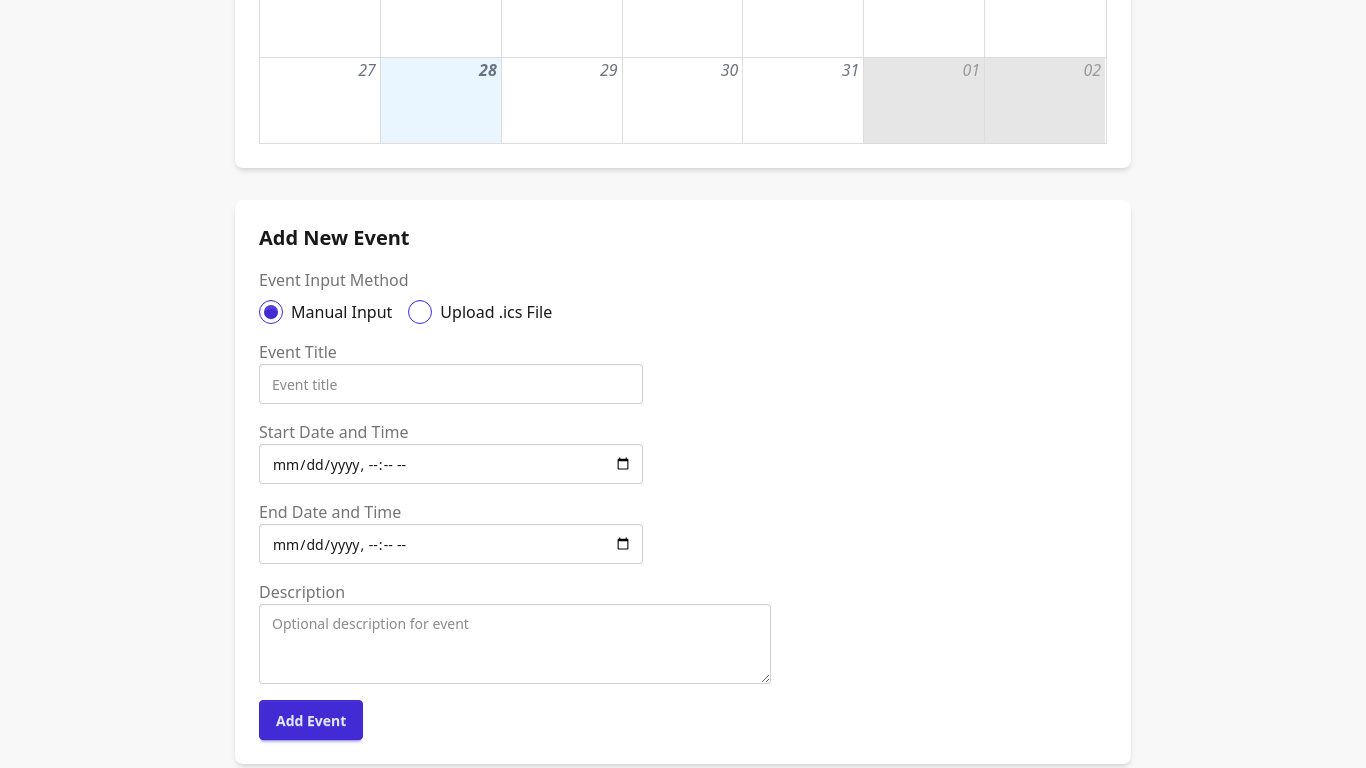
Test: Schedule Page › shows validation error when start > end
(page scrolled)
In the field labelled "Event Title": (451, 384) [259,364,643,404], type "Invalid Event"
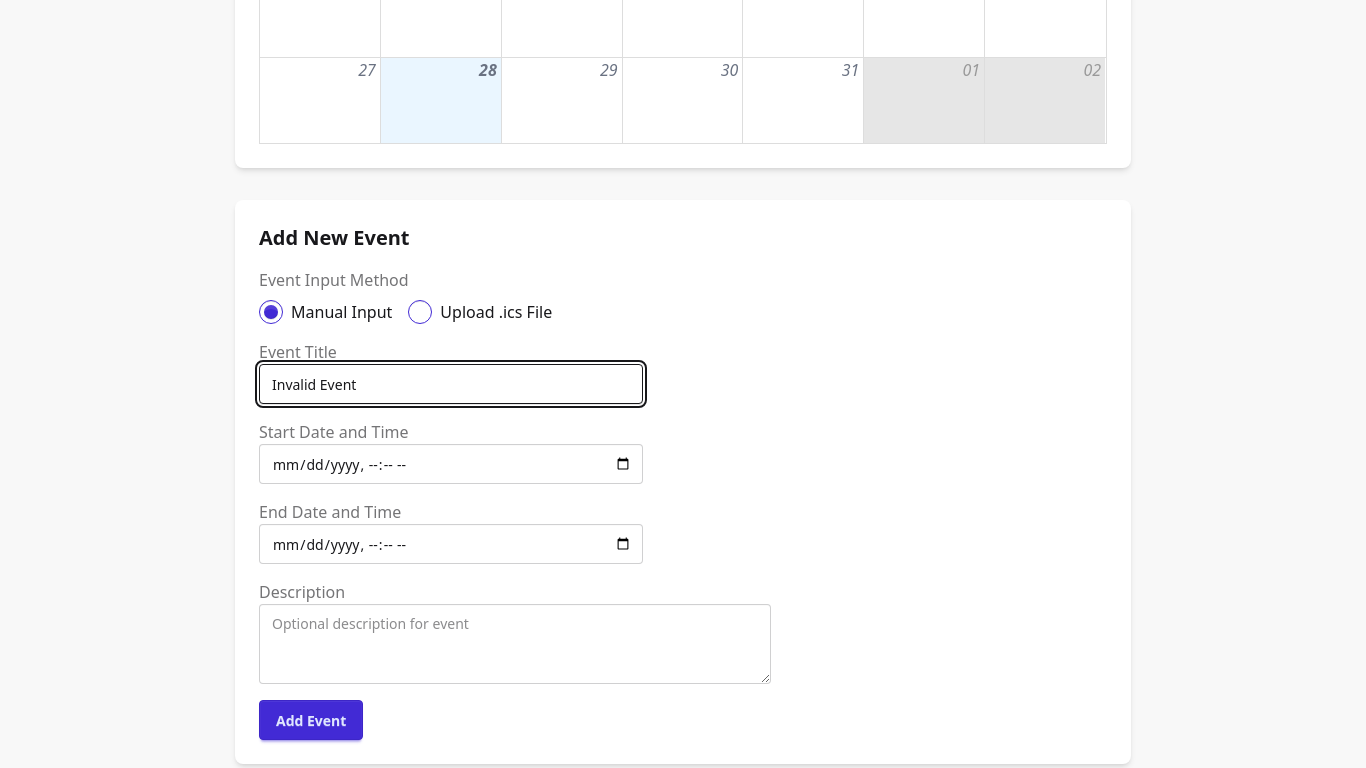
In the field labelled "Start Date and Time": (451, 464) [259,444,643,484], type "2025-06-30T12:00"
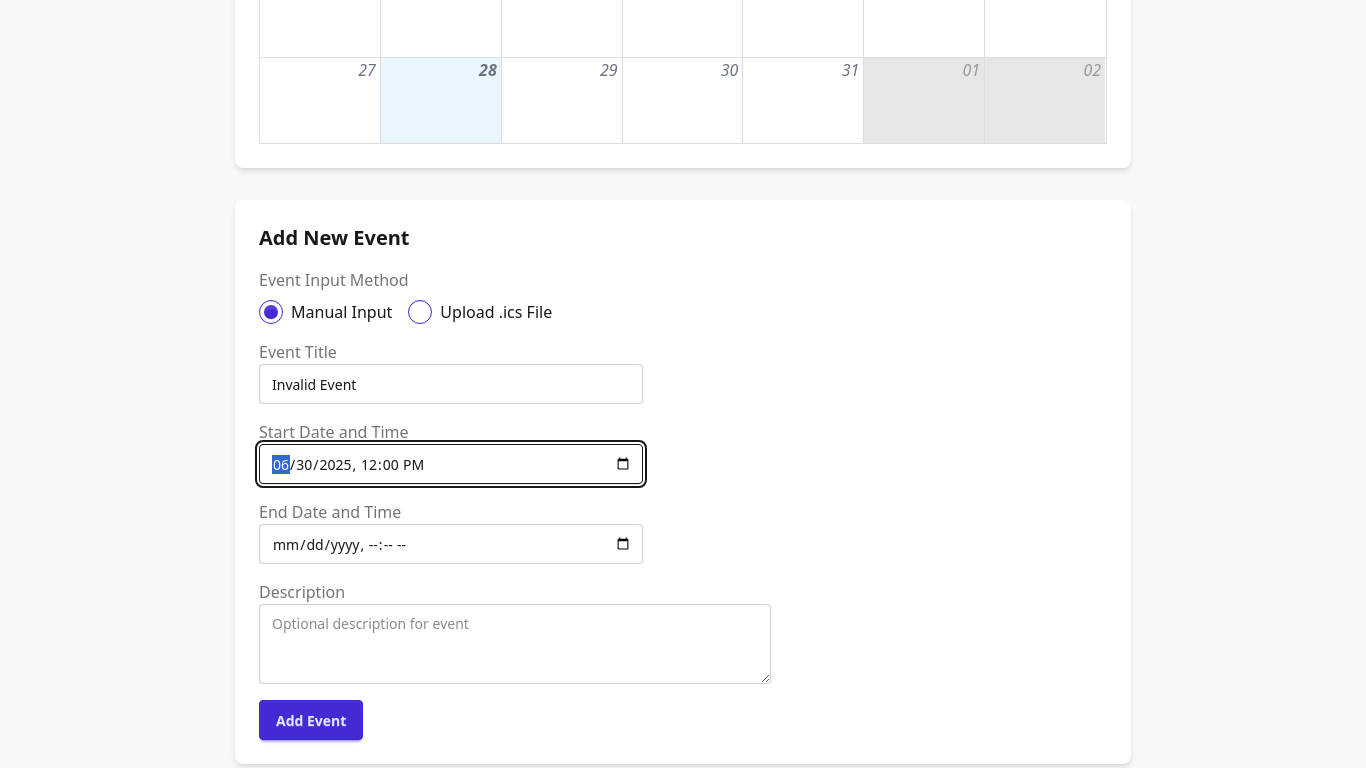
In the field labelled "End Date and Time": (451, 544) [259,524,643,564], type "2025-06-30T10:00"
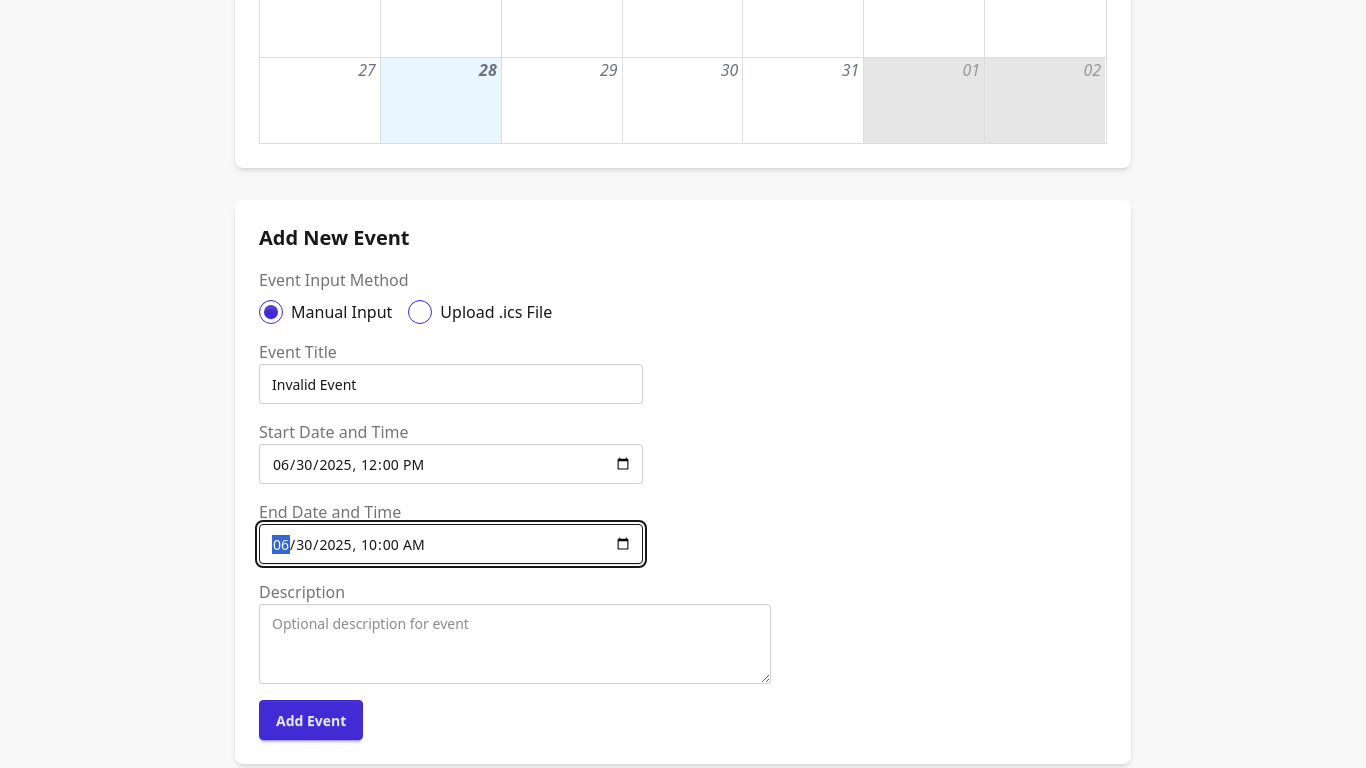
Click the button "Add Event": (311, 720) [259,700,363,740]
(page scrolled)
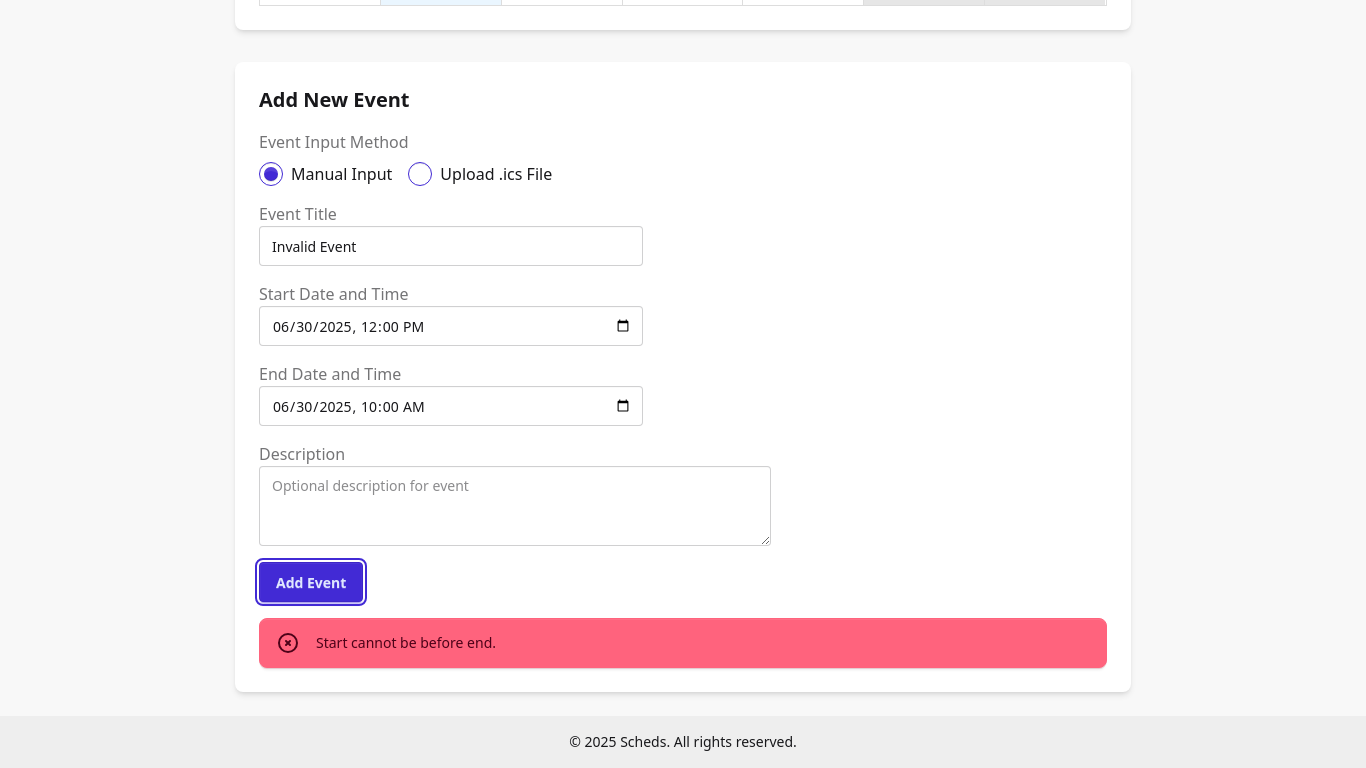
Now the text "Start cannot be before end." is shown, box [316,633,496,653]
